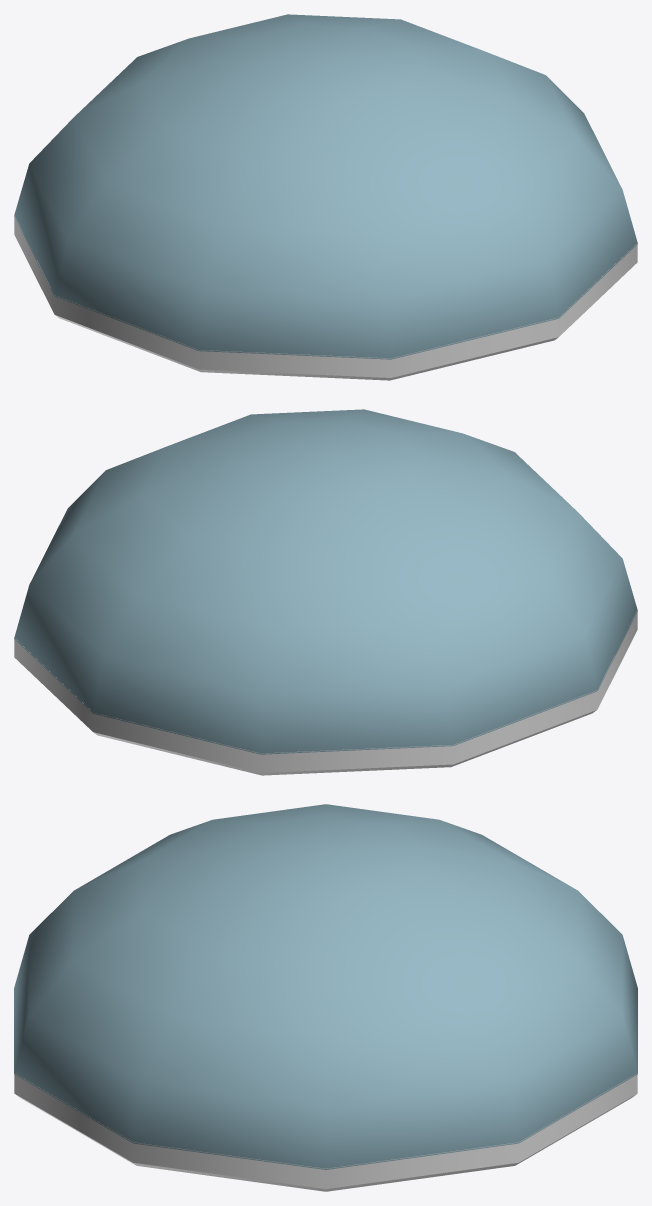
Rendered from eye.fbx.
3 views of the same model, one above another, from view 1: azimuth 30°, elevation 25°; view 2: azimuth 150°, elevation 25°; view 3: azimuth 270°, elevation 25° (orthographic). The views are drawn at different scales.
Parts seen in each view (by area): view 1: eyefront, eyeback; view 2: eyefront, eyeback; view 3: eyefront, eyeback.
Part boxes in pixels (x1,y1,x2,y2): eyefront: [14, 14, 637, 359]; eyeback: [14, 215, 637, 380]; eyefront: [14, 409, 637, 754]; eyeback: [14, 610, 637, 775]; eyefront: [14, 804, 637, 1169]; eyeback: [14, 1073, 637, 1191].
Size of the model in its own units: 1.69 by 0.5815 by 1.61.
